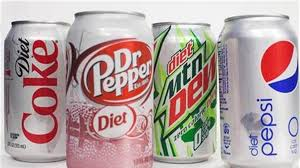coke: (7, 20, 68, 160)
